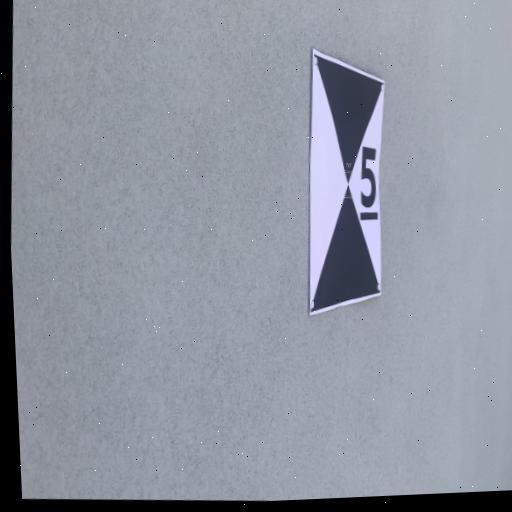target5: (310, 49, 385, 319)
